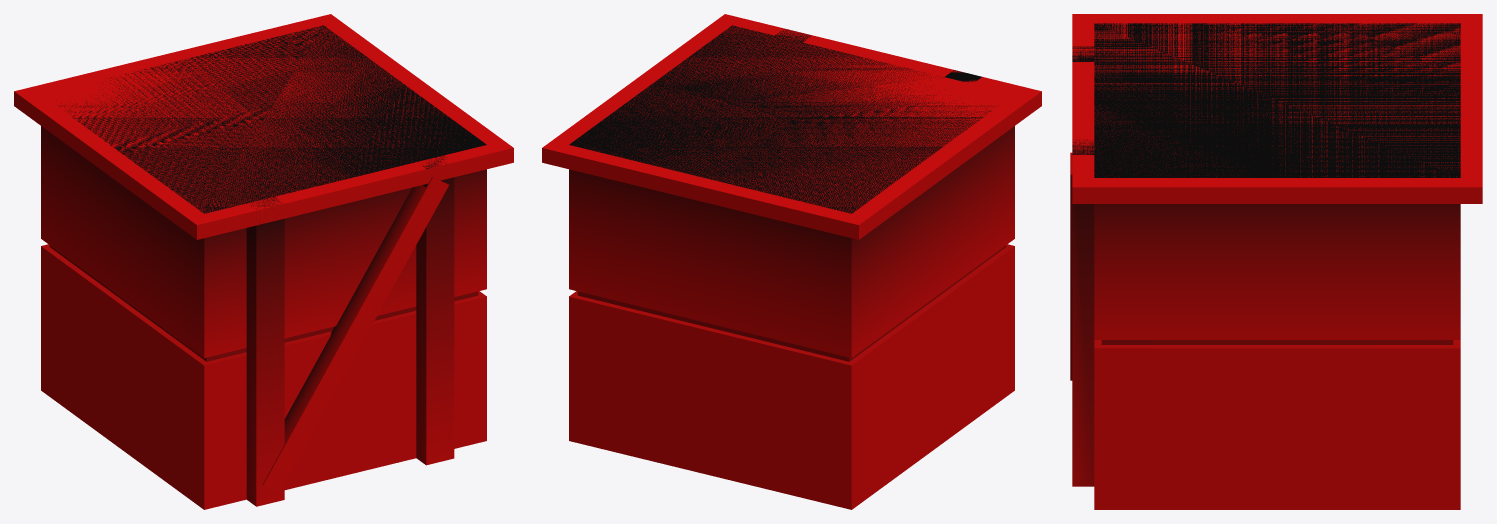
The model's file is arch_section.glb.
The picture shows the model from 3 angles, left to right: view 1: azimuth 30°, elevation 25°; view 2: azimuth 150°, elevation 25°; view 3: azimuth 270°, elevation 25°; orthographic projection. The views are drawn at different scales.
Parts seen in each view (by area): view 1: arch_section; view 2: arch_section; view 3: arch_section.
Boxes of the visible parts, left/top/right/bottom form: arch_section: left=14, top=14, right=513, bottom=509; arch_section: left=542, top=14, right=1041, bottom=509; arch_section: left=1070, top=14, right=1482, bottom=509.
Size of the model in its own units: 1.12 by 1 by 1.12.
